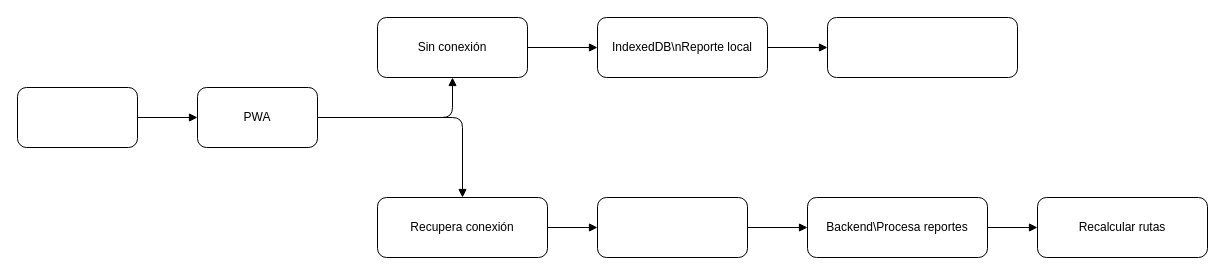
Some shapes in this 1225 by 275 pixel diagram are drawn without their labels. The shapes that lost their labels are listed below. From the top down, each one's centre as x and y in pixels, then its label:
At point 922,47: "Outbox\nPendiente de sync".
At point 77,117: "Usuario".
At point 672,227: "POST /sync".
